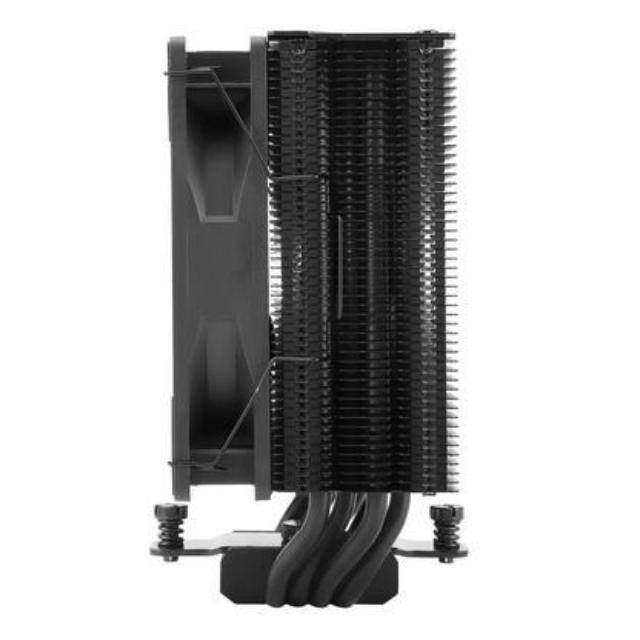CPU_Fan: (150, 26, 468, 614)
